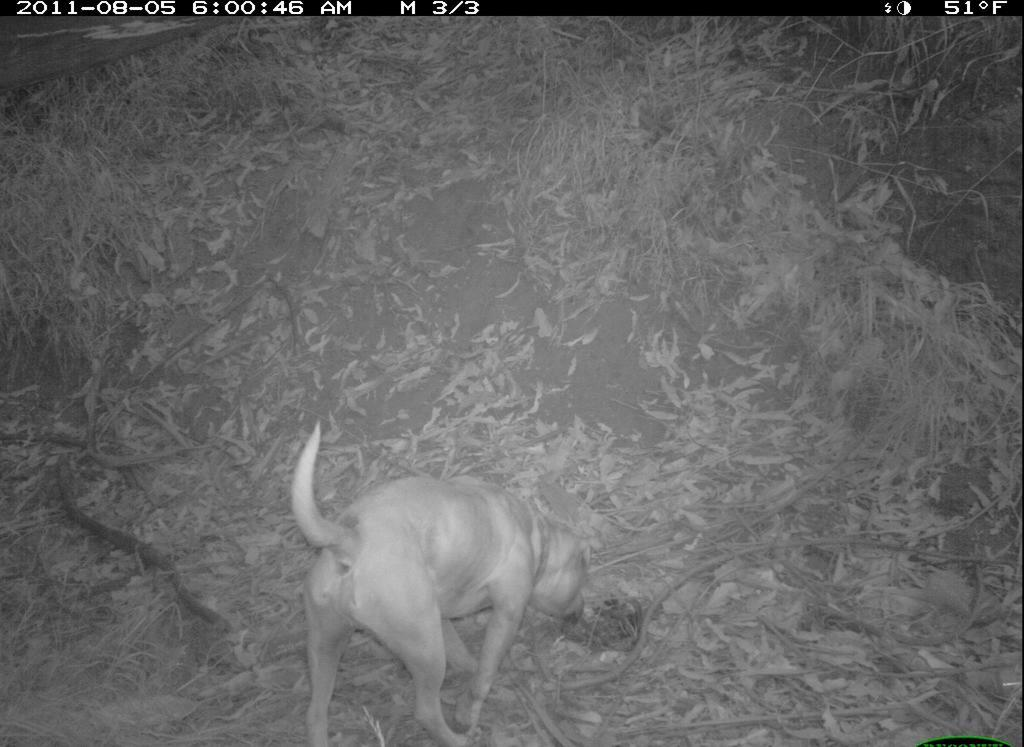dog: (272, 414, 639, 747)
